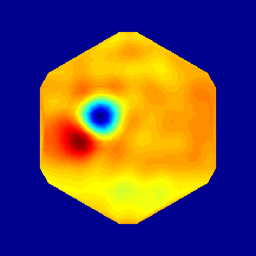ship: (85, 102, 117, 132)
wave: (46, 117, 100, 160)
